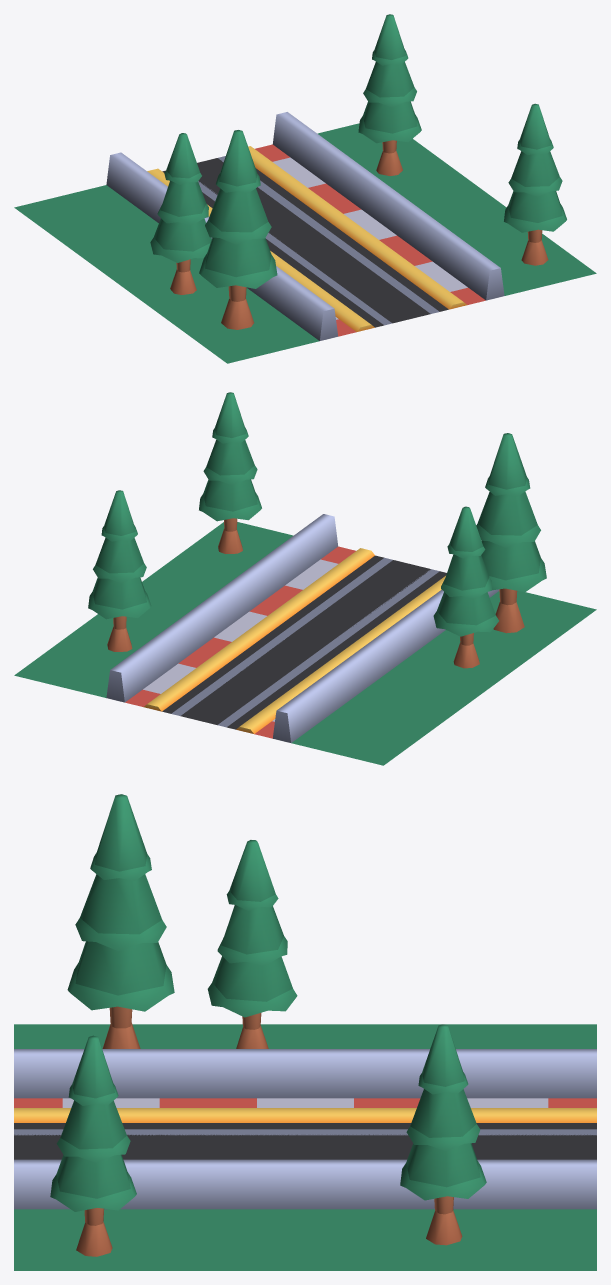
Rendered from track-thin-straight.glb.
The picture shows the model from 3 angles, top to bottom: view 1: azimuth 30°, elevation 25°; view 2: azimuth 150°, elevation 25°; view 3: azimuth 270°, elevation 25°; orthographic projection. The views are drawn at different scales.
Visible parts, largest first — view 1: track-straight.011; view 2: track-straight.011; view 3: track-straight.011.
Part boxes in pixels (box(x1,y1,x2,y2)): track-straight.011: box(14, 14, 596, 363); track-straight.011: box(14, 392, 596, 765); track-straight.011: box(14, 794, 596, 1270).
Bounding box in the file's own units: 10 × 4.94 × 10.
Materials: 2 (2 with a texture image).
